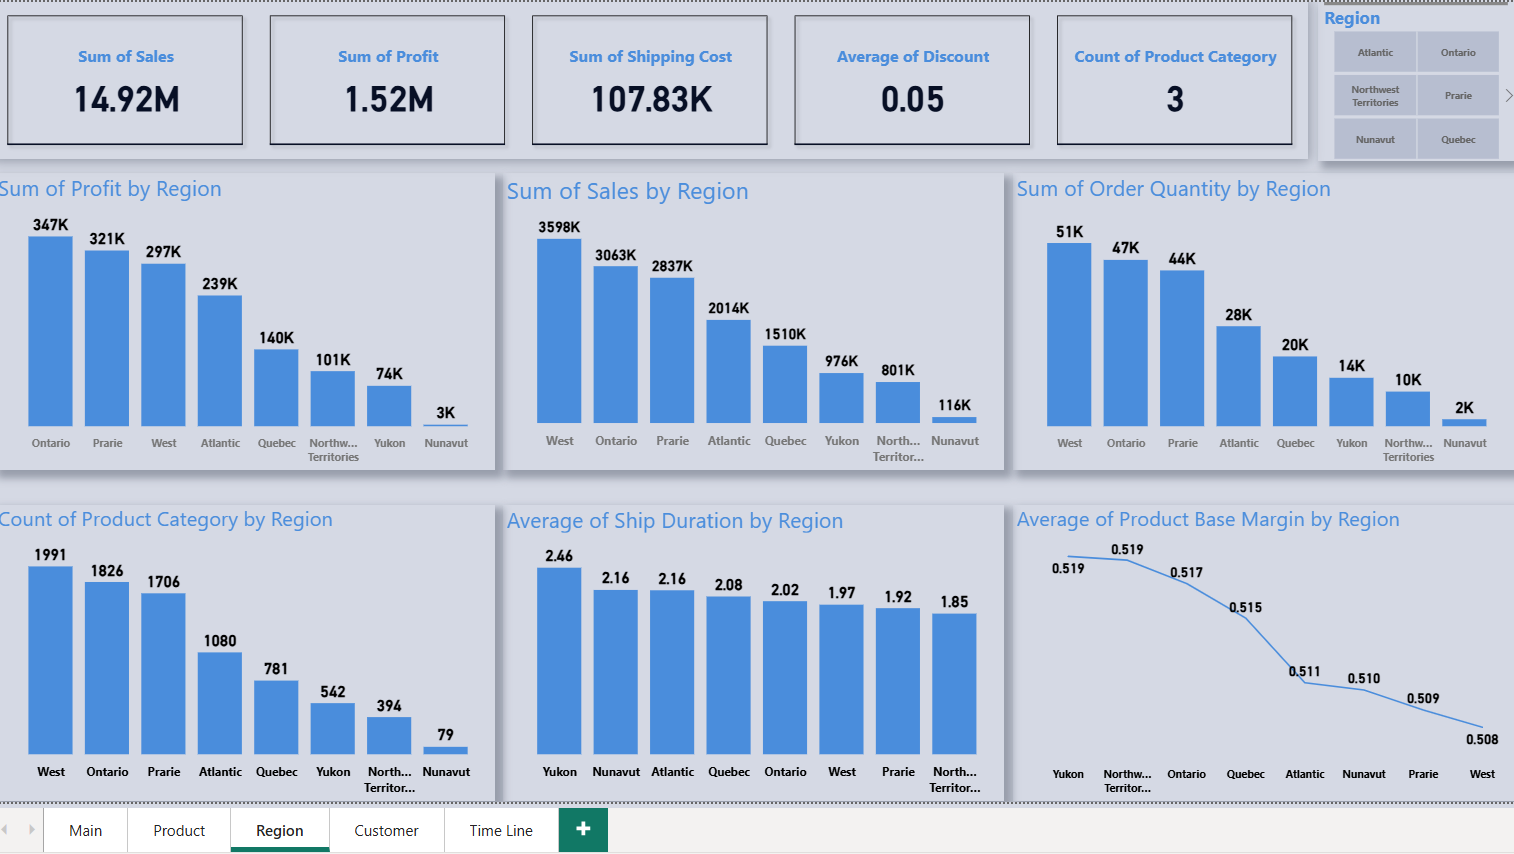

The page's visual inventory and layout, read from the dashboard file:
{"tool":"powerbi","page":{"name":"region","canvas":[1900,1000],"ordinal":2},"visuals":[{"type":"actionButton","box":[0,0,100,40],"z":0},{"type":"cardVisual","fields":{"Data":["Sum(Final Data.Sales)","Sum(Final Data.Profit)","Sum(Final Data.Shipping Cost)","Avg(Final Data.Discount)","Count(Final Data.Product Category)"]},"box":[0,0,1642.1,196.5],"z":1000},{"type":"slicer","fields":{"Values":["Final Data.Region"]},"box":[1654.4,0,245.6,198.2],"z":2000},{"type":"columnChart","fields":{"Category":["Final Data.Region"],"Y":["Sum(Final Data.Profit)"]},"box":[0,214.3,626.8,371.4],"z":3000},{"type":"columnChart","fields":{"Y":["CountNonNull(Final Data.Product Category)"],"Category":["Final Data.Region"]},"box":[0,628.6,626.8,371.4],"z":4000},{"type":"columnChart","fields":{"Category":["Final Data.Region"],"Y":["Avg(Final Data.Ship Duration)"]},"box":[635.7,628.6,626.8,371.4],"z":5000},{"type":"columnChart","fields":{"Category":["Final Data.Region"],"Y":["Sum(Final Data.Sales)"]},"box":[635.7,214.3,626.8,371.4],"z":6000},{"type":"columnChart","fields":{"Category":["Final Data.Region"],"Y":["Sum(Final Data.Order Quantity)"]},"box":[1273.2,214.3,626.8,371.4],"z":7000},{"type":"lineChart","fields":{"Y":["Avg(Final Data.Product Base Margin)"],"Category":["Final Data.Region"]},"box":[1273.2,628.6,626.8,371.4],"z":8000}]}

Visuals, with their boxes on the page's 1900x1000 design canvas (x1, y1, x2, y2). These are canvas units, not pixel positions in the 1514x854 screenshot, which may show the page scaled, cropped or inside an application window:
actionButton: box=[0, 0, 100, 40]
cardVisual - Sum(Final Data.Sales) x Sum(Final Data.Profit): box=[0, 0, 1642, 196]
slicer - Final Data.Region: box=[1654, 0, 1900, 198]
columnChart - Final Data.Region x Sum(Final Data.Profit): box=[0, 214, 627, 586]
columnChart - CountNonNull(Final Data.Product Category) x Final Data.Region: box=[0, 629, 627, 1000]
columnChart - Final Data.Region x Avg(Final Data.Ship Duration): box=[636, 629, 1262, 1000]
columnChart - Final Data.Region x Sum(Final Data.Sales): box=[636, 214, 1262, 586]
columnChart - Final Data.Region x Sum(Final Data.Order Quantity): box=[1273, 214, 1900, 586]
lineChart - Avg(Final Data.Product Base Margin) x Final Data.Region: box=[1273, 629, 1900, 1000]
